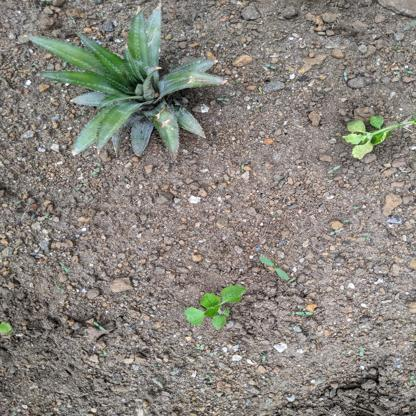pineapple: (30, 3, 228, 159)
weed: (340, 113, 416, 161), (183, 283, 251, 327)
